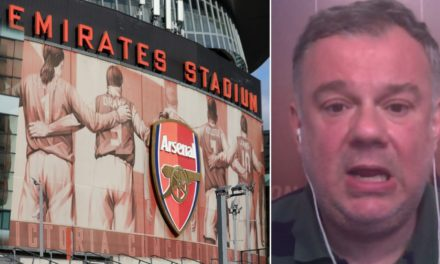bad: (287, 64, 440, 219)
